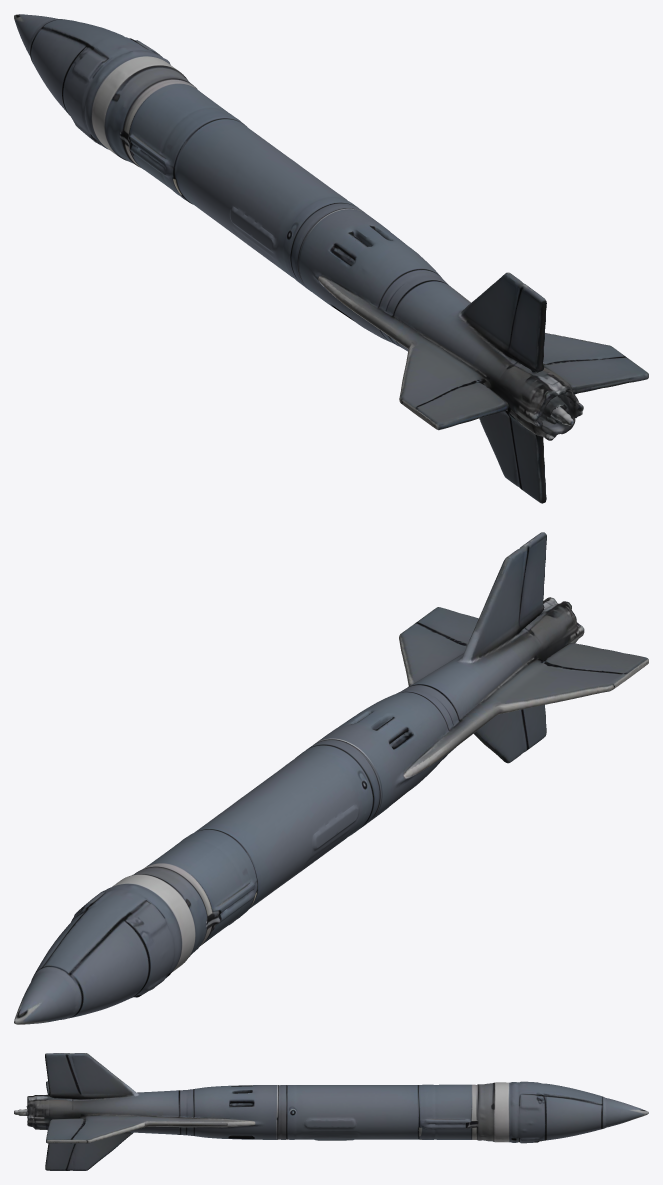
3 renders of one model, top to bottom at view 1: azimuth 30°, elevation 25°; view 2: azimuth 150°, elevation 25°; view 3: azimuth 270°, elevation 25°, orthographic. The views are drawn at different scales.
Visible parts, largest first — view 1: tripo_node_43329b6c-fac5-4d5c-933b-876182000e50; view 2: tripo_node_43329b6c-fac5-4d5c-933b-876182000e50; view 3: tripo_node_43329b6c-fac5-4d5c-933b-876182000e50.
Part boxes in pixels (<box>): tripo_node_43329b6c-fac5-4d5c-933b-876182000e50: <box>14,14,648,503</box>; tripo_node_43329b6c-fac5-4d5c-933b-876182000e50: <box>14,532,648,1024</box>; tripo_node_43329b6c-fac5-4d5c-933b-876182000e50: <box>14,1053,648,1170</box>.
Size of the model in its own units: 0.2205 by 0.204 by 1.
Materials: 1 (1 with a texture image).
